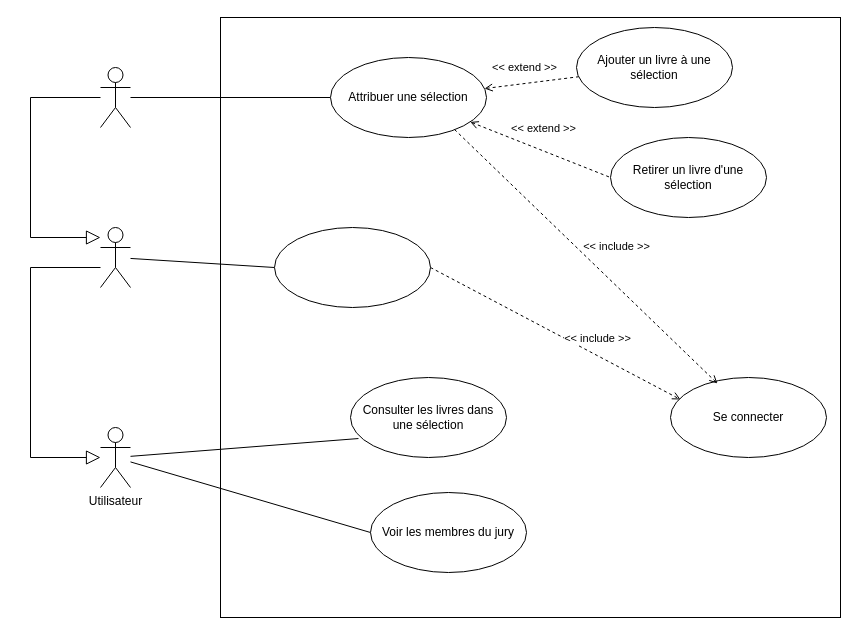
Image size: 858x635. Some labels were removed from this diagram. The shapes that lost their labels are listed below. From the top down, each one's box as (x1, y1, x2, y2) in pixels, then its label:
(100, 66, 130, 128): Président du jury
(100, 226, 130, 288): Membre du jury
(274, 226, 430, 308): Voter pour un livre dans une sélection
